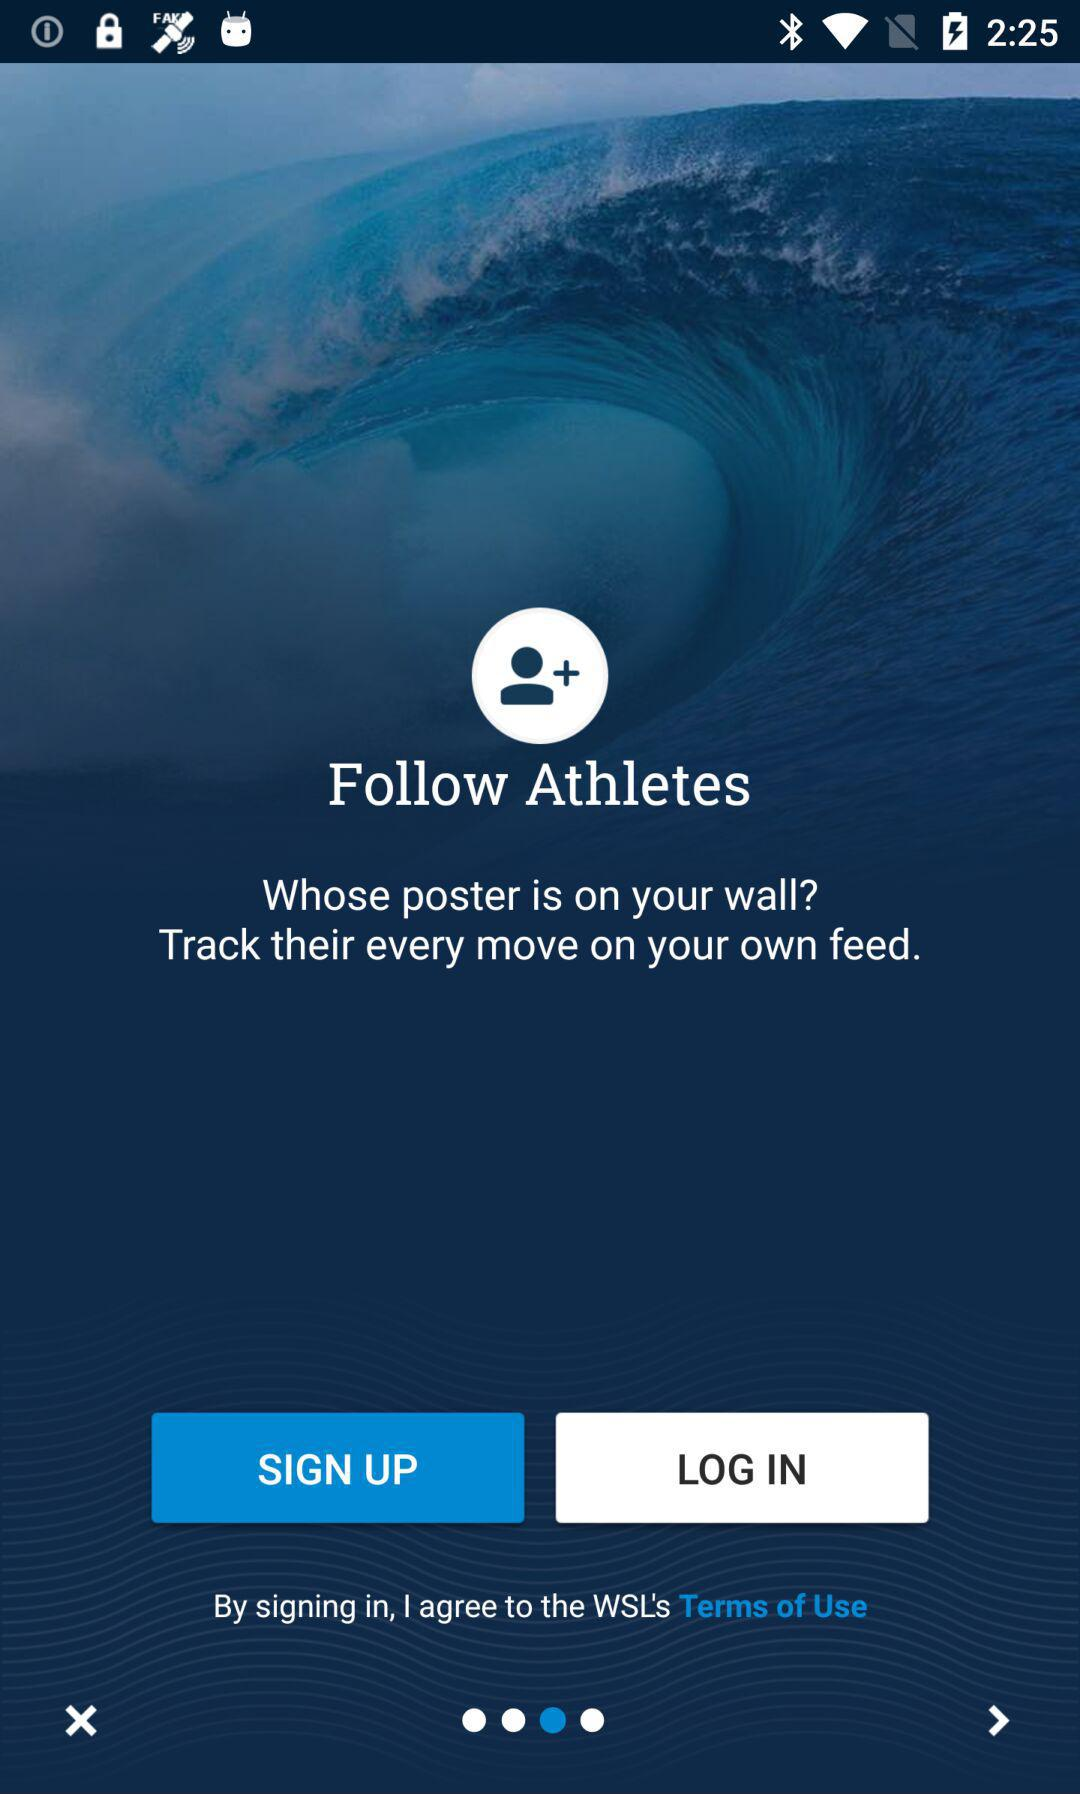BackgroundImage: (1, 64, 1080, 1794)
Icon: (471, 607, 610, 745), (65, 1704, 99, 1738), (986, 1704, 1011, 1738)
PageIndicator: (461, 1706, 606, 1735)
Text: (159, 876, 920, 970), (214, 1592, 869, 1625), (328, 759, 749, 809)
TextButton: (555, 1412, 930, 1524), (151, 1412, 527, 1524)
UpperTaskBar: (1, 1, 1080, 64)
